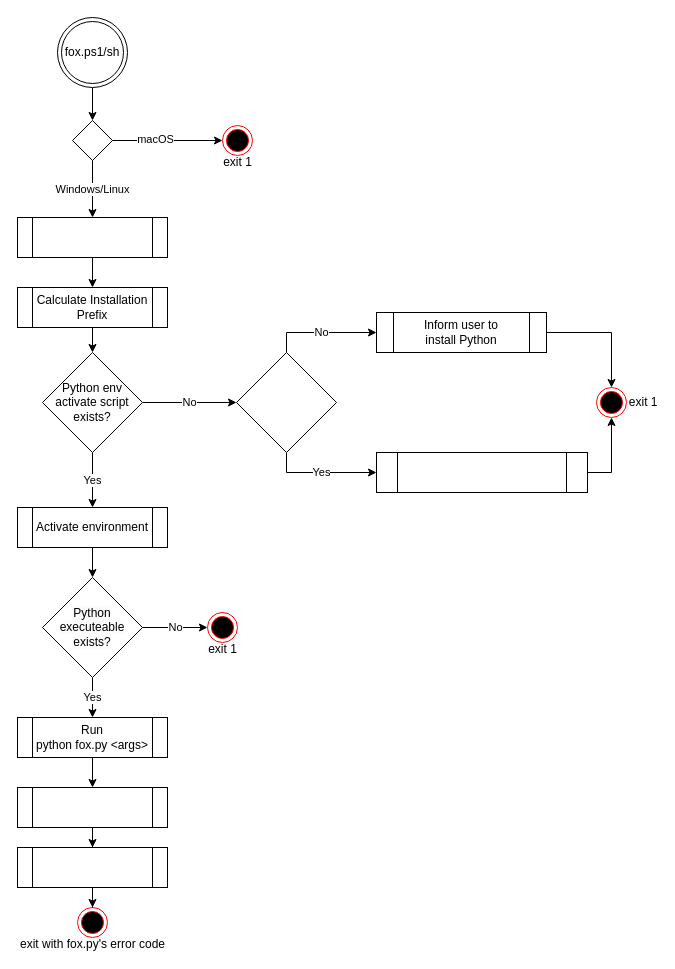
Image size: 675x969. Some labels were removed from this diagram. Here are the shapes that lost their labels. From the top down, the box of each, then its label:
(72, 120, 112, 160): OS?
(16, 216, 168, 258): Push into repository root
(236, 352, 336, 452): Base python installation exists?
(376, 452, 588, 492): Run setup script ./cli/helpers/python_setup.py
(16, 786, 168, 828): Deactivate environment
(16, 846, 168, 888): Pop directory
